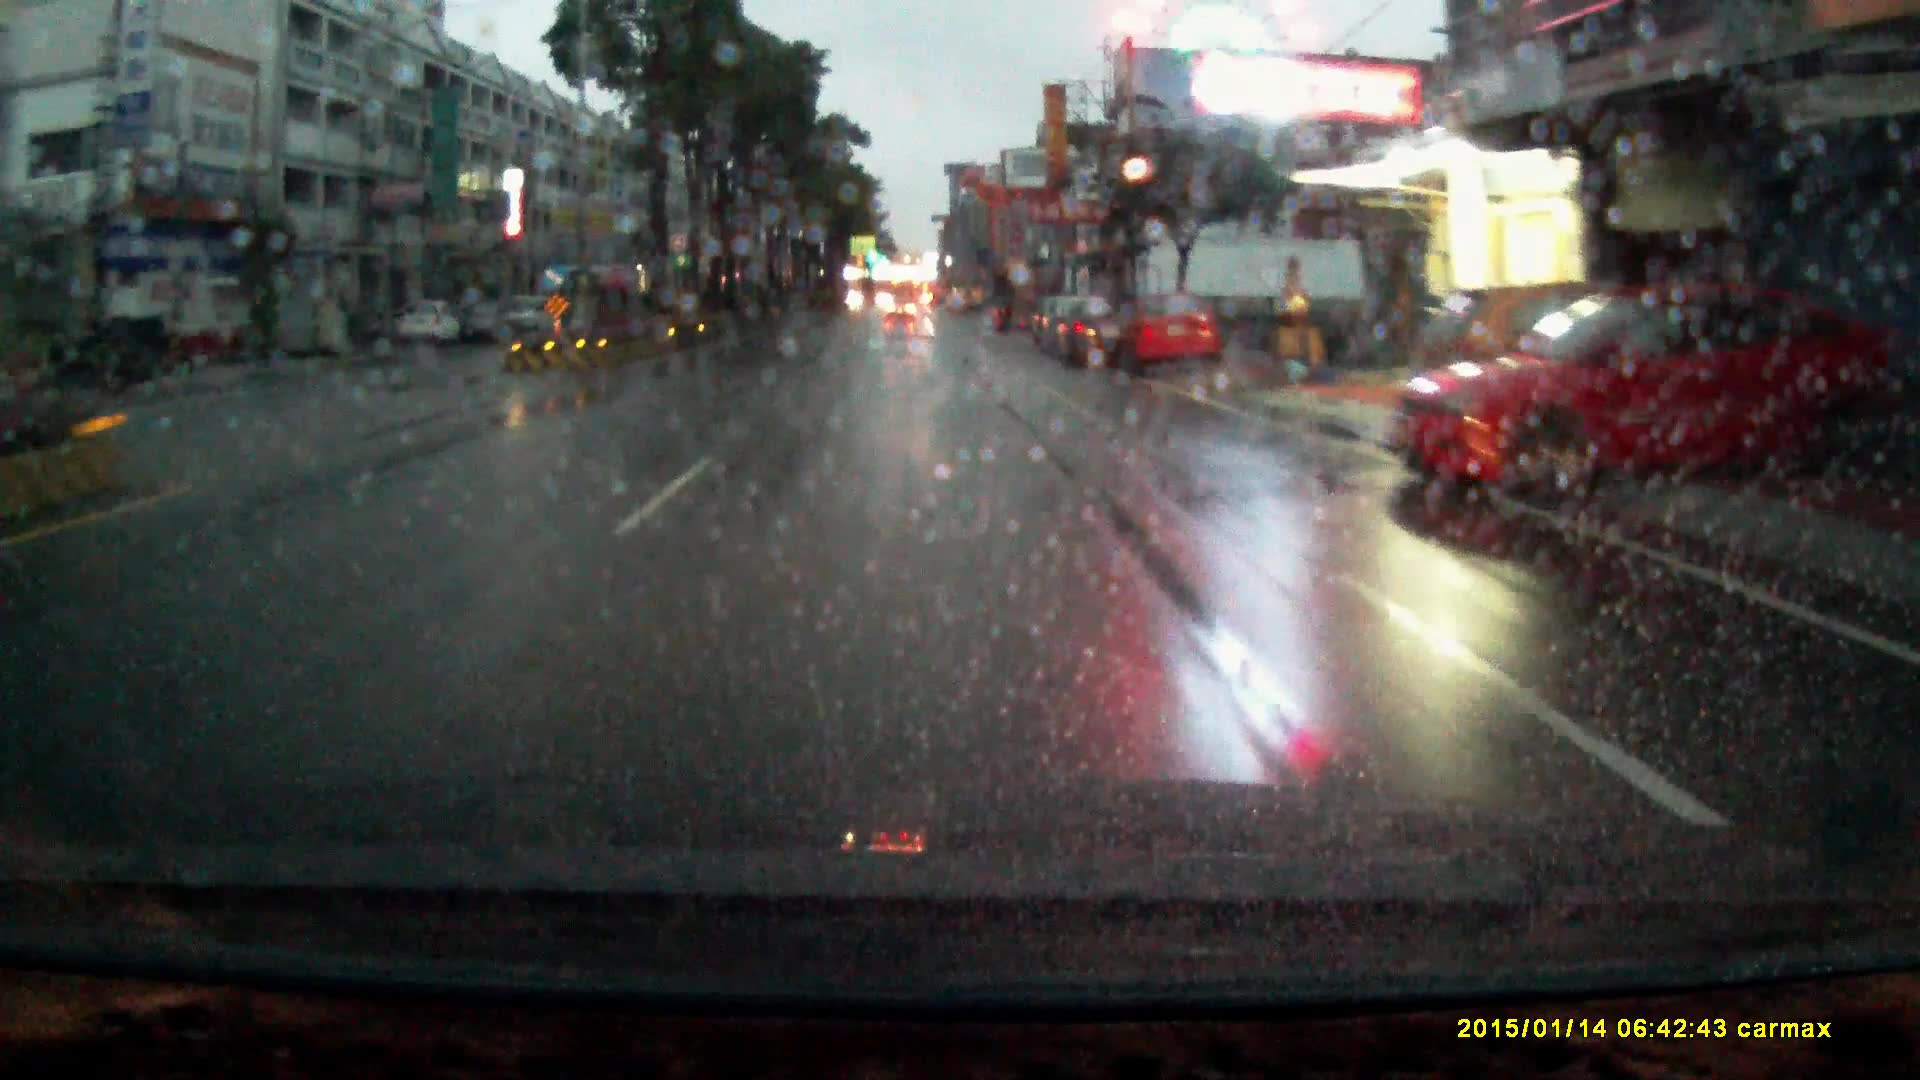vehicle: (1393, 274, 1842, 493), (1116, 287, 1226, 375), (1051, 291, 1126, 367), (397, 291, 465, 345), (502, 291, 568, 336), (1038, 289, 1062, 342), (886, 291, 918, 320)
